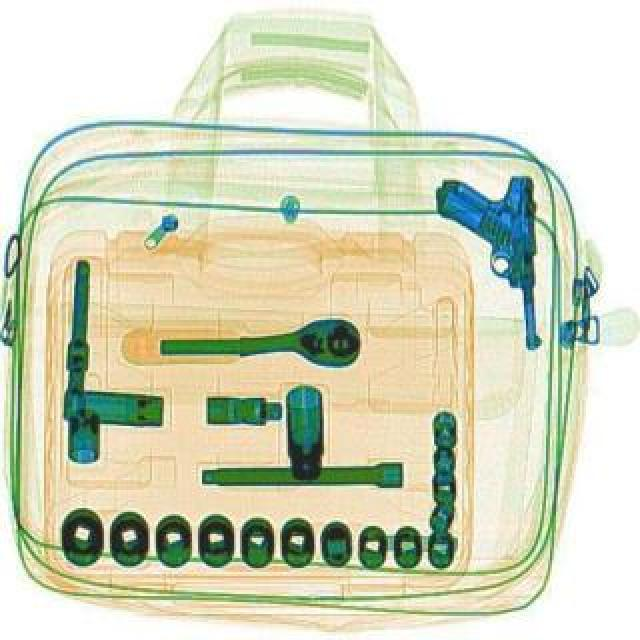gun: (430, 172, 546, 352)
